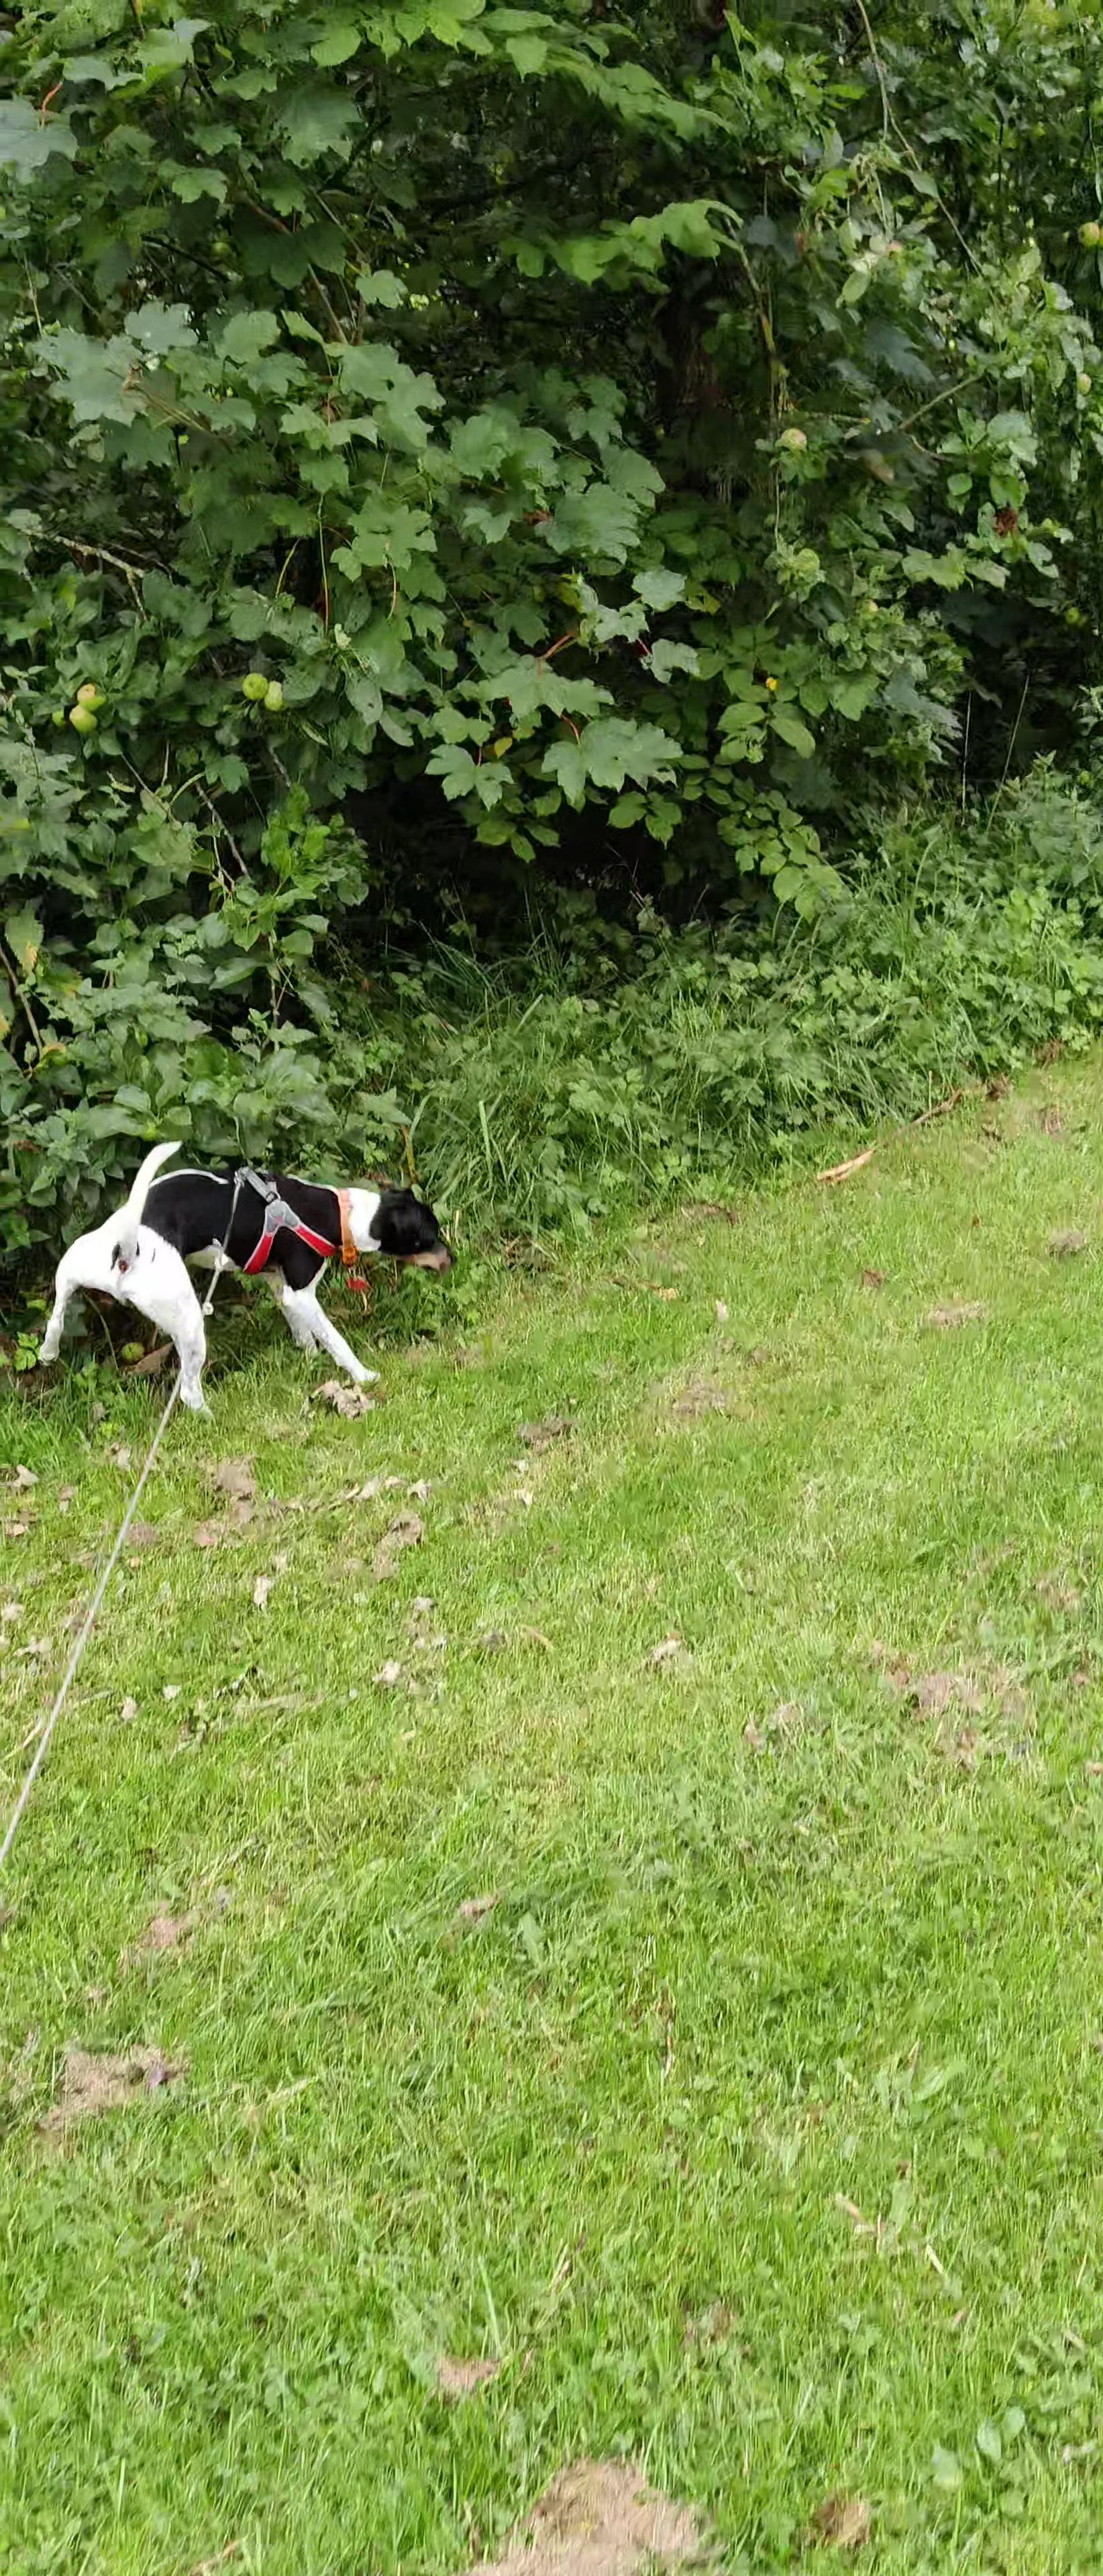Dog: (26, 1127, 465, 1433)
